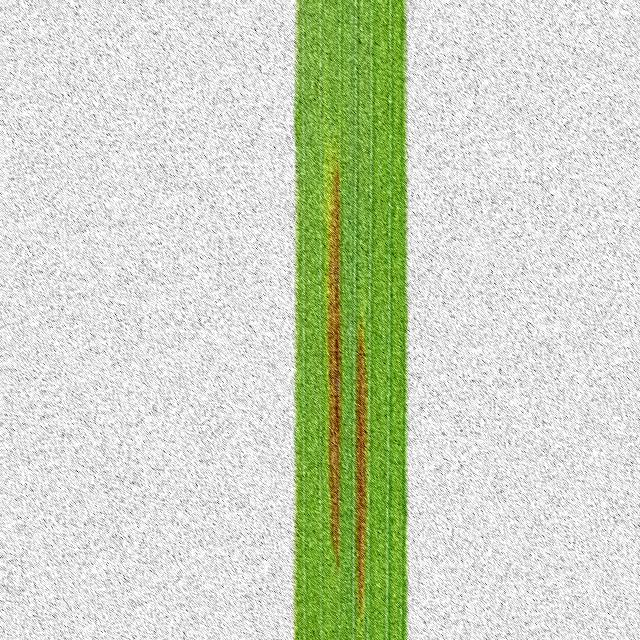NBS: (327, 159, 340, 574), (354, 316, 369, 616)
